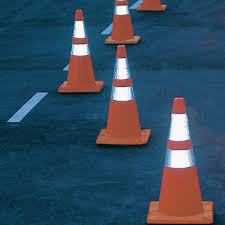cones: (147, 96, 217, 225), (97, 44, 152, 153), (54, 9, 105, 102), (98, 1, 142, 47)
